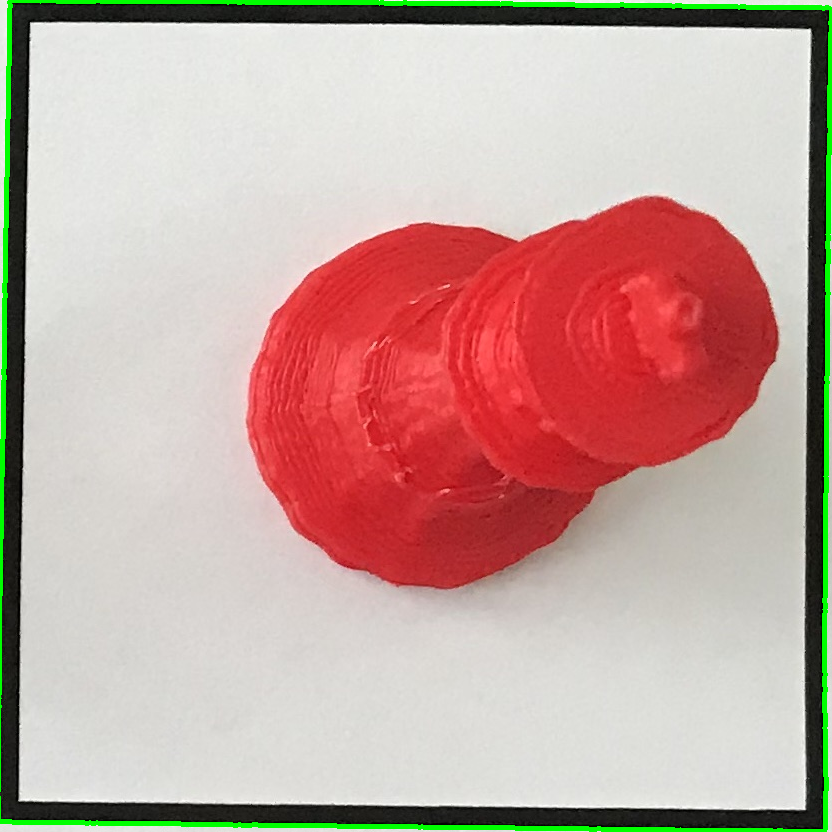Red King: (229, 171, 793, 622)
